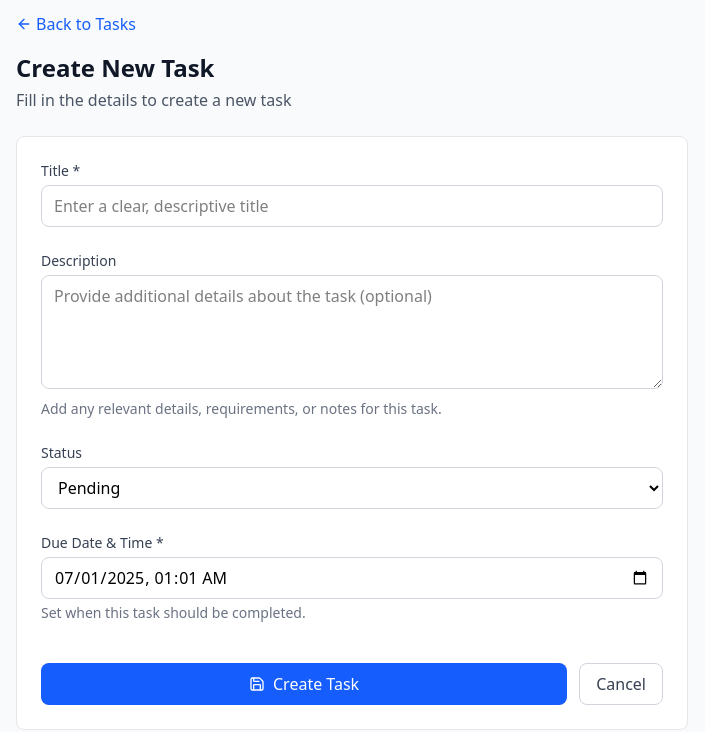
Test: TaskForm › shows validation error for past due date
Type "Test Task" into the field labelled "Title *".
click(352, 206); type("Test Task")  # box [41,185,663,227]
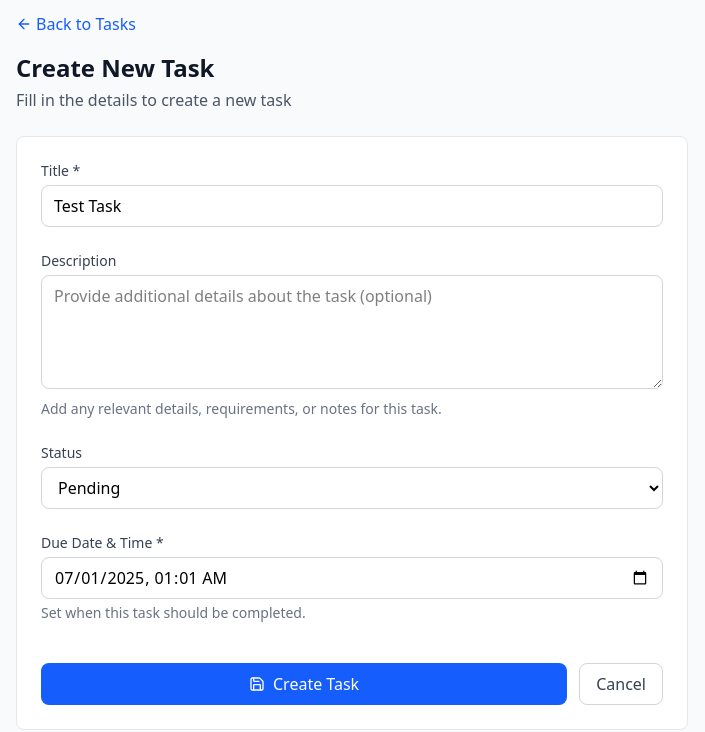
Replace the text in the field labelled "Due Date & Time *" with "2020-01-01T12:00" at {"x": 352, "y": 578}, box [41,557,663,599]
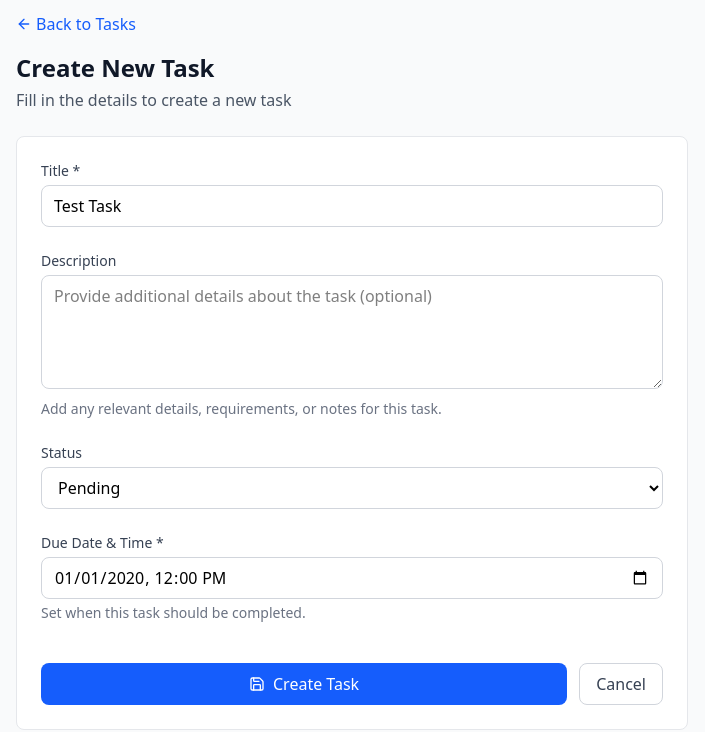
Click the button "Create Task".
click(304, 684)  # box [41,663,567,705]
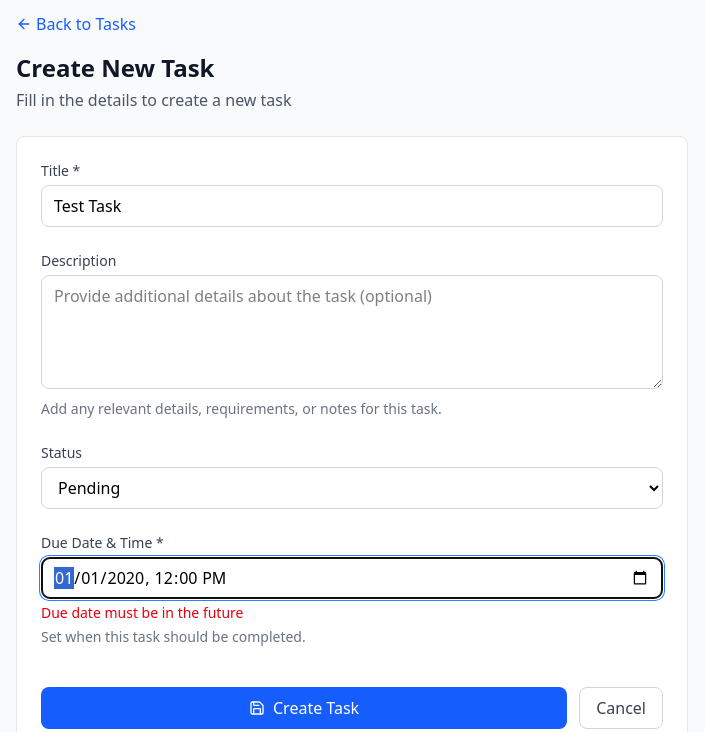
Now the text "Due date must be in the future" is shown, box [41,603,244,622]
